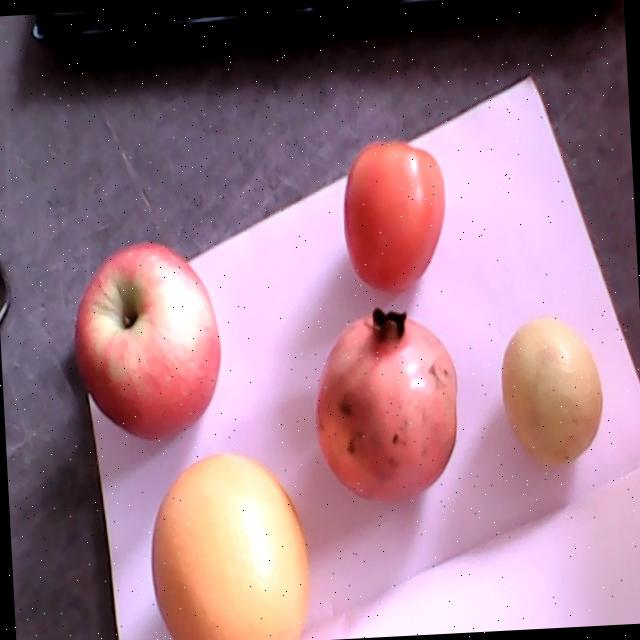apple: (75, 241, 220, 439)
lemon: (501, 318, 603, 466)
orange: (152, 454, 310, 640)
pomegranate: (314, 306, 457, 501)
tomato: (343, 138, 446, 295)
